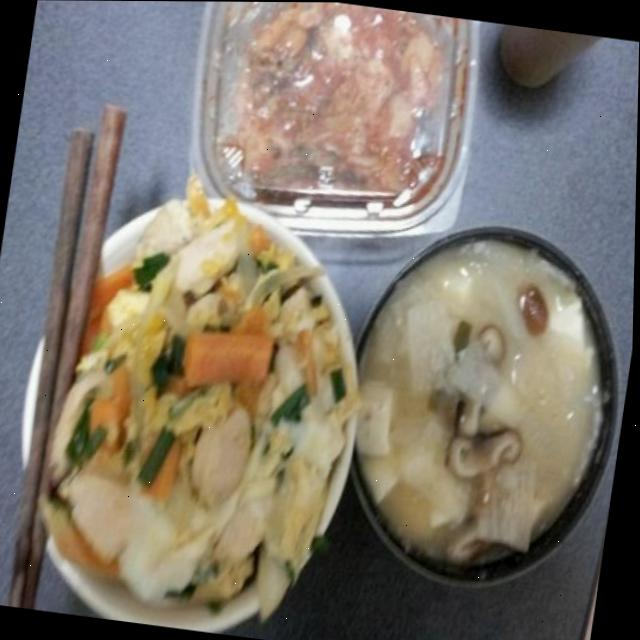蔬菜料理: (317, 200, 637, 596)
